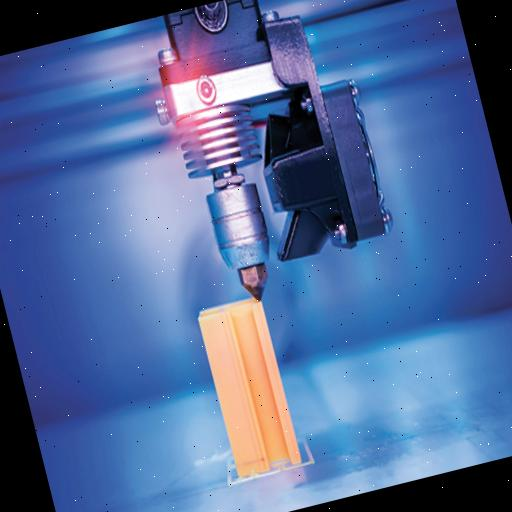cracks: (228, 436, 276, 476)
